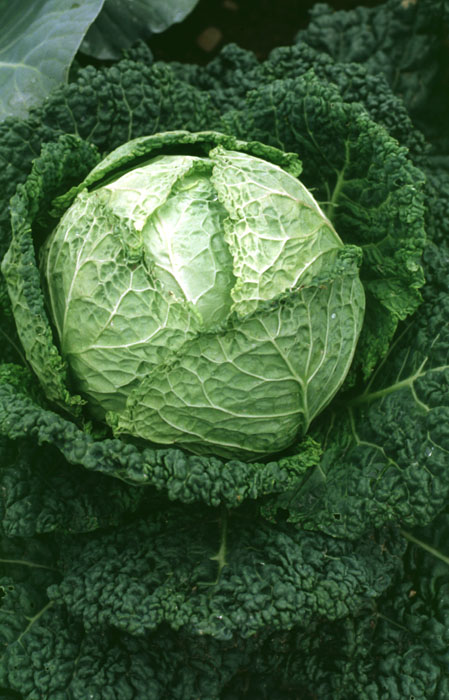cabbage: (1, 1, 447, 698)
